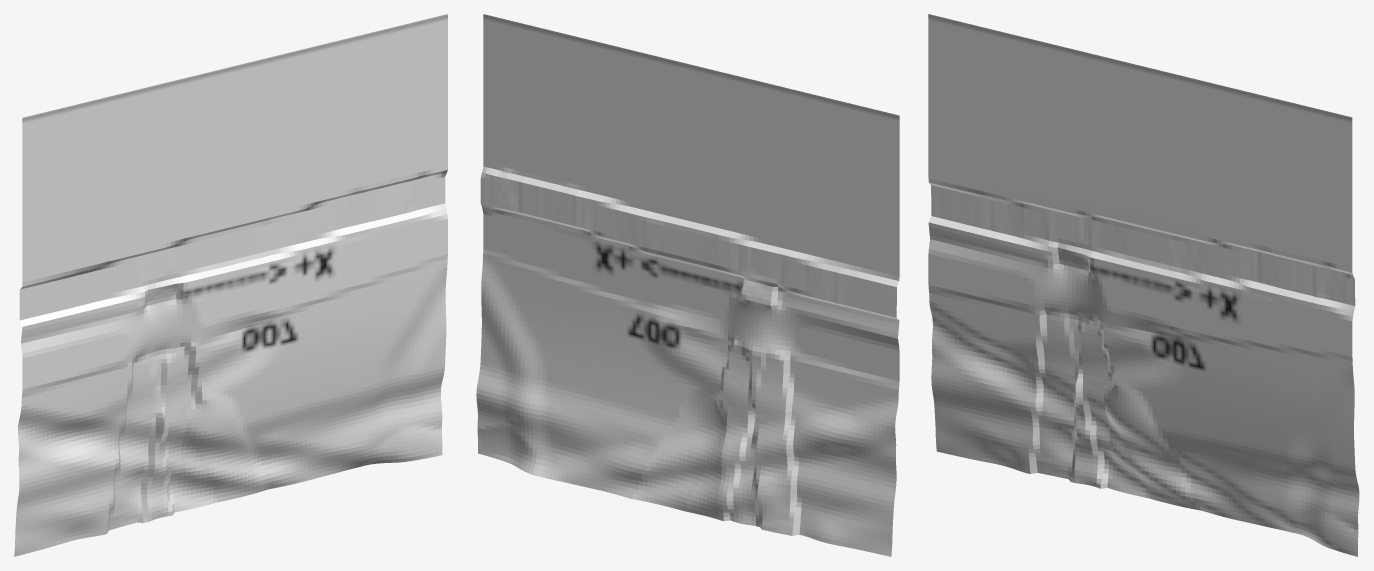
3 renders of one model, left to right at view 1: azimuth 30°, elevation 25°; view 2: azimuth 150°, elevation 25°; view 3: azimuth 330°, elevation 25°, orthographic. The views are drawn at different scales.
Visible parts, largest first — view 1: Ground007; view 2: Ground007; view 3: Ground007.
Boxes of the visible parts, left/top/right/bottom form: Ground007: left=14, top=14, right=447, bottom=556; Ground007: left=476, top=14, right=899, bottom=556; Ground007: left=928, top=14, right=1359, bottom=556.
Size of what is drawn, in the model's own units: 100 by 6.24 by 100.
Materials: 1 (1 with a texture image).
